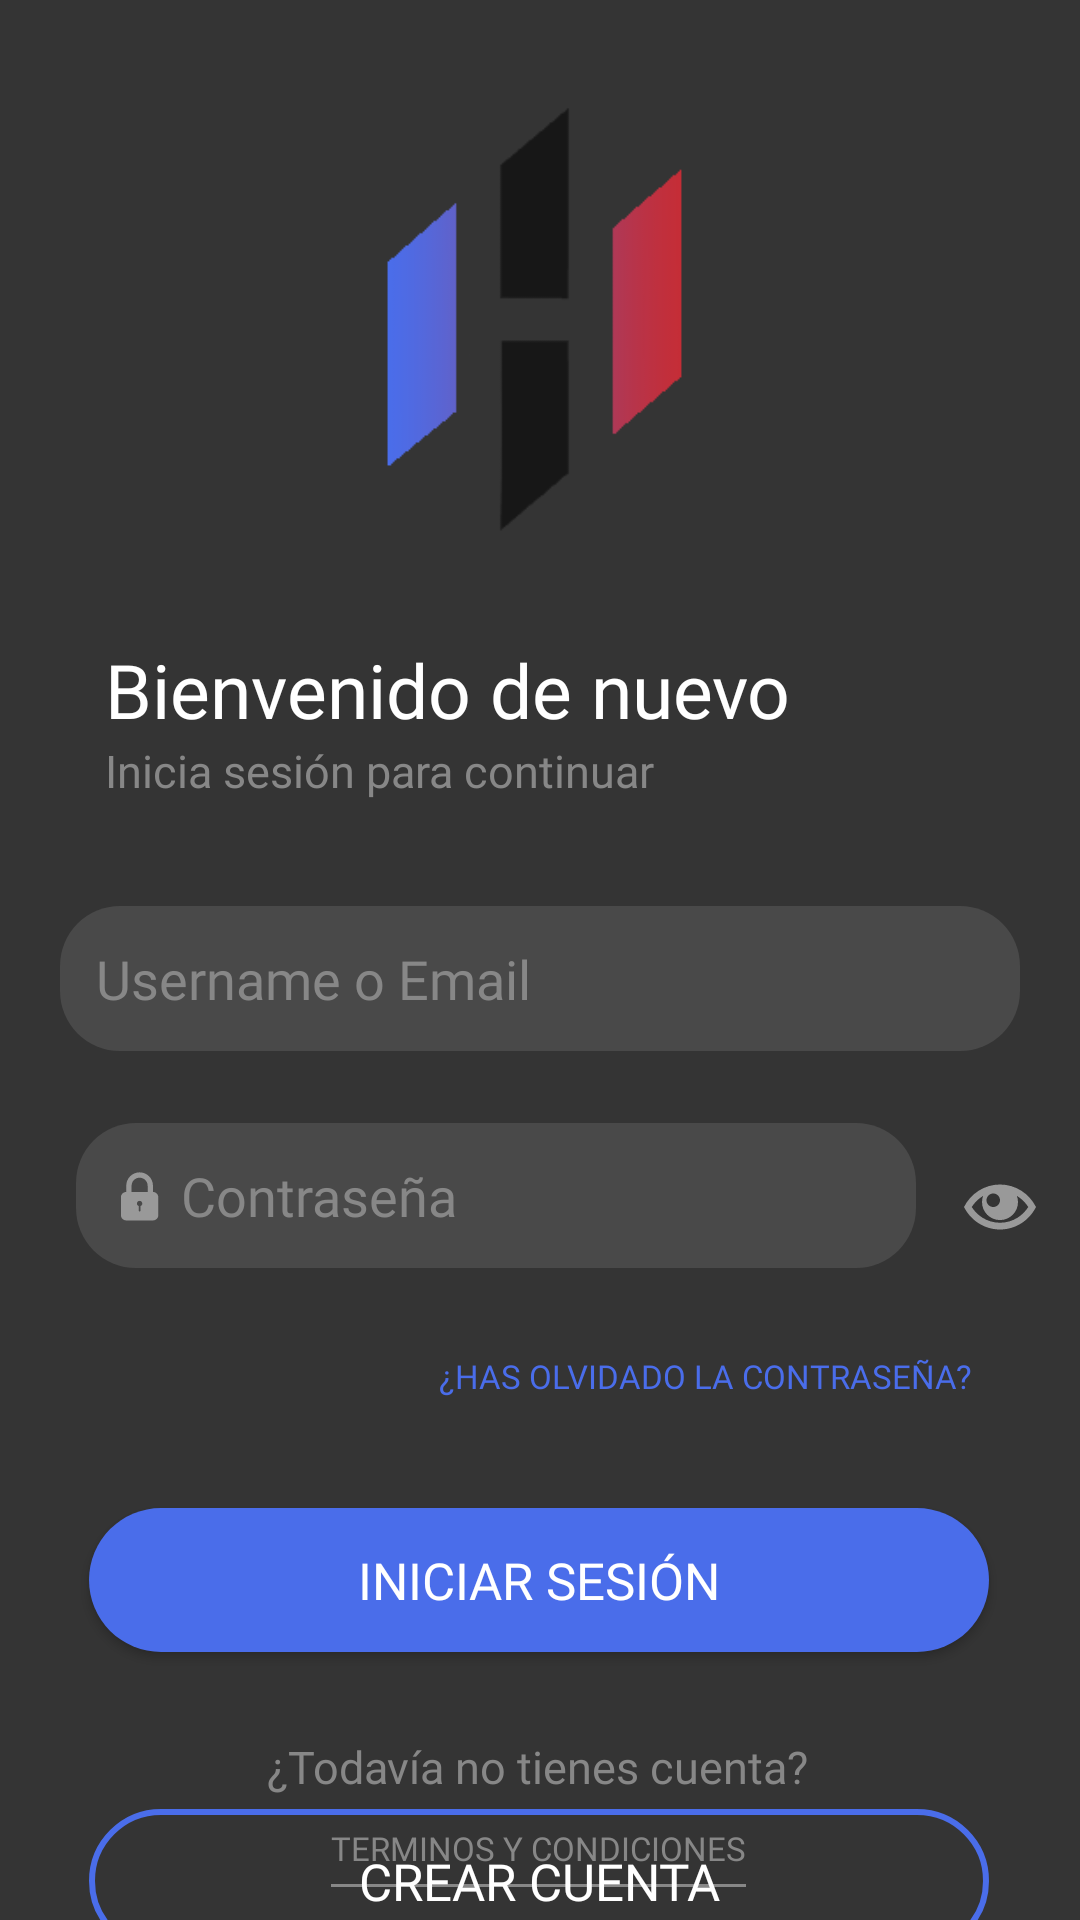

Point at icon controls on the screen. Image size 1080 × 1920, points as (x,y).
check pass open: (1000,1207)
